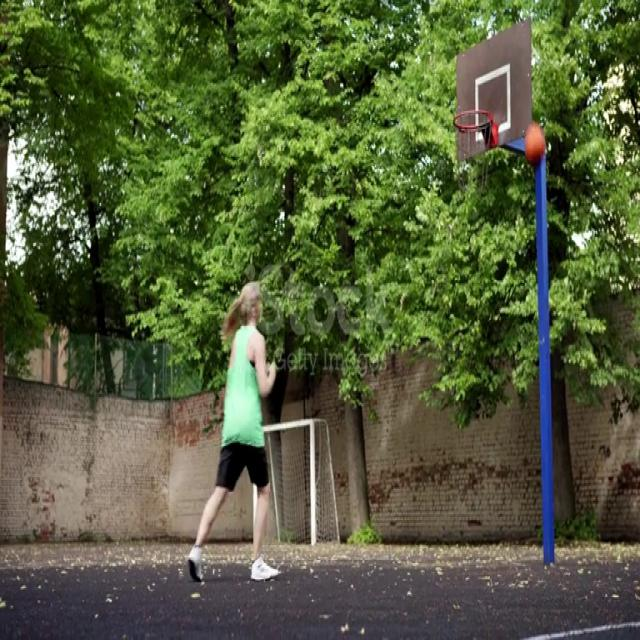ball: (524, 123, 547, 164)
